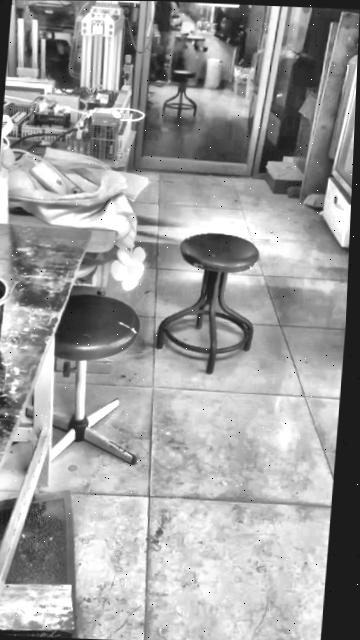pot: (0, 272, 8, 370)
